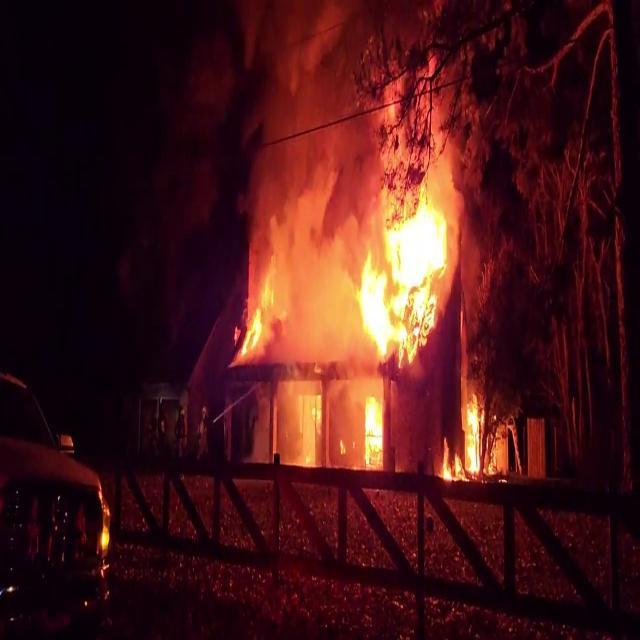Fire: (342, 182, 454, 361), (438, 388, 488, 486)
Smoke: (222, 0, 371, 350)
